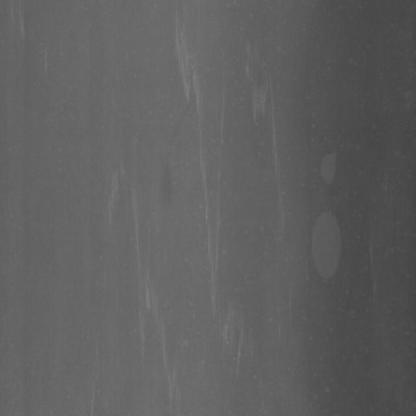oil_spot: (307, 202, 348, 300), (312, 131, 351, 195)
silk_spot: (170, 24, 246, 362), (122, 250, 188, 401), (240, 46, 292, 198), (103, 143, 162, 269)
